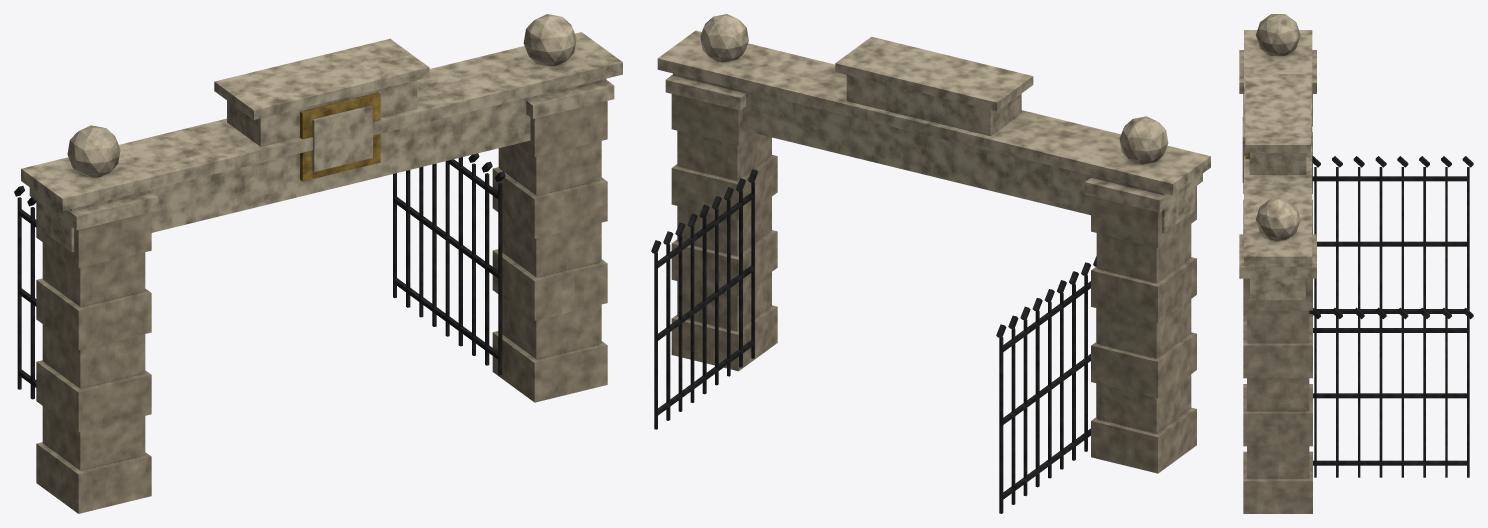
Rendered from siracusa_mansion_gate.glb.
3 views of the same model, side by side, from view 1: azimuth 30°, elevation 25°; view 2: azimuth 150°, elevation 25°; view 3: azimuth 270°, elevation 25° (orthographic). The views are drawn at different scales.
Parts seen in each view (by area): view 1: siracusa_mansion_gate; view 2: siracusa_mansion_gate; view 3: siracusa_mansion_gate.
Part boxes in pixels (x1,y1,x2,y2): siracusa_mansion_gate: (14,14,622,513); siracusa_mansion_gate: (651,14,1210,513); siracusa_mansion_gate: (1239,14,1473,513).
Size of the model in its own units: 8.6 by 5.31 by 3.76.
4 materials, 4 textured.
